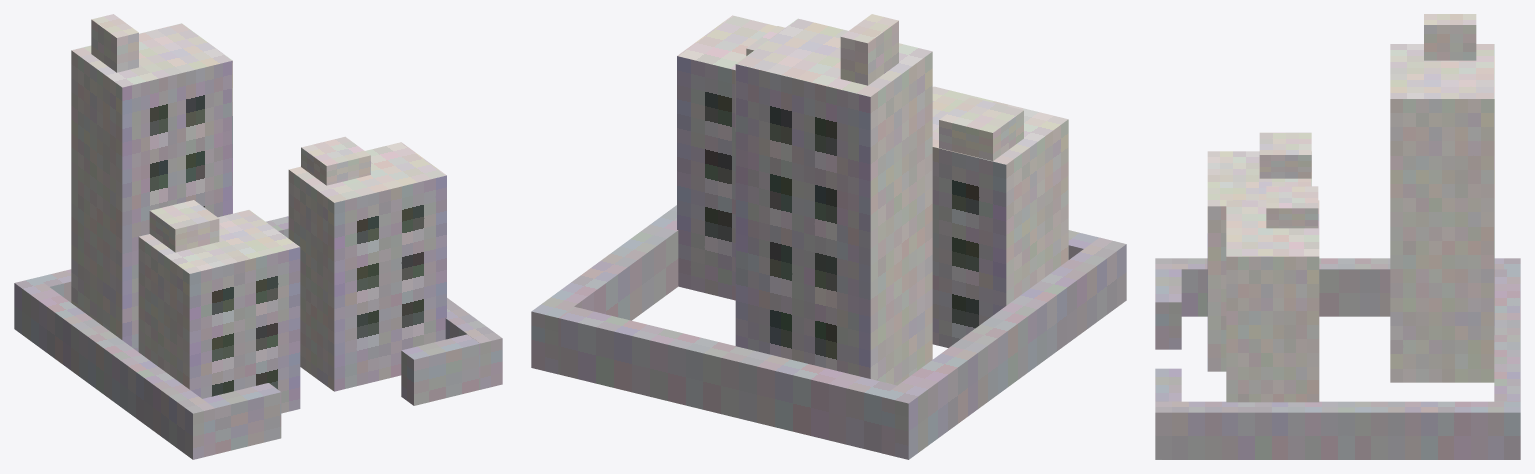
The model's file is City.FBX.
3 renders of one model, left to right at view 1: azimuth 30°, elevation 25°; view 2: azimuth 150°, elevation 25°; view 3: azimuth 270°, elevation 25°, orthographic. The views are drawn at different scales.
Parts seen in each view (by area): view 1: Box010; view 2: Box010; view 3: Box010.
Part boxes in pixels (x1,y1,x2,y2): Box010: [14, 14, 502, 459]; Box010: [531, 14, 1126, 459]; Box010: [1155, 14, 1520, 459].
Size of the model in its own units: 0.875 by 0.875 by 0.8438.
